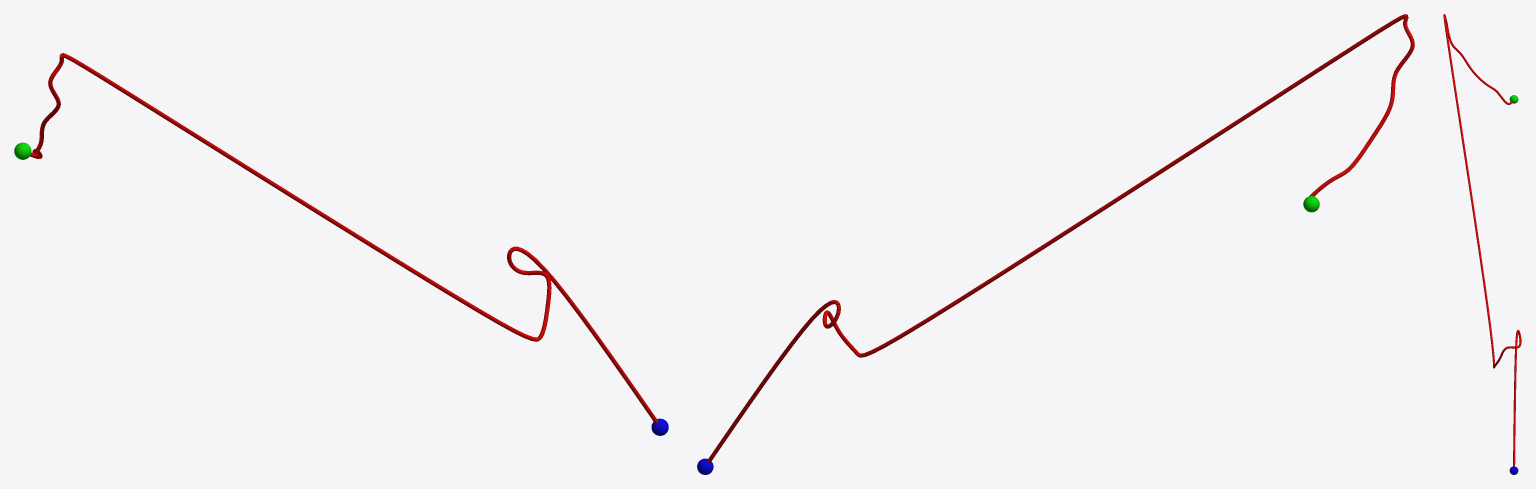
Rendered from paths.obj.
3 views of the same model, side by side, from view 1: azimuth 30°, elevation 25°; view 2: azimuth 150°, elevation 25°; view 3: azimuth 270°, elevation 25° (orthographic). The views are drawn at different scales.
Bounding box in the file's own units: 1.83 × 1.52 × 0.3616.
